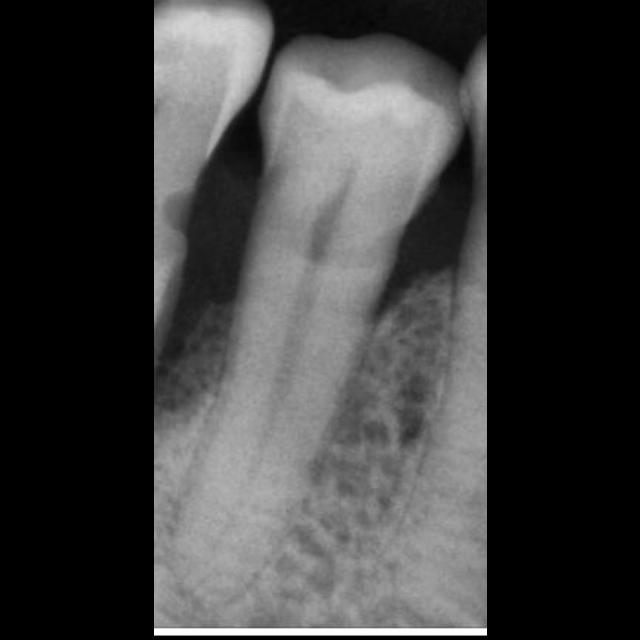tooth: (170, 37, 467, 603)
